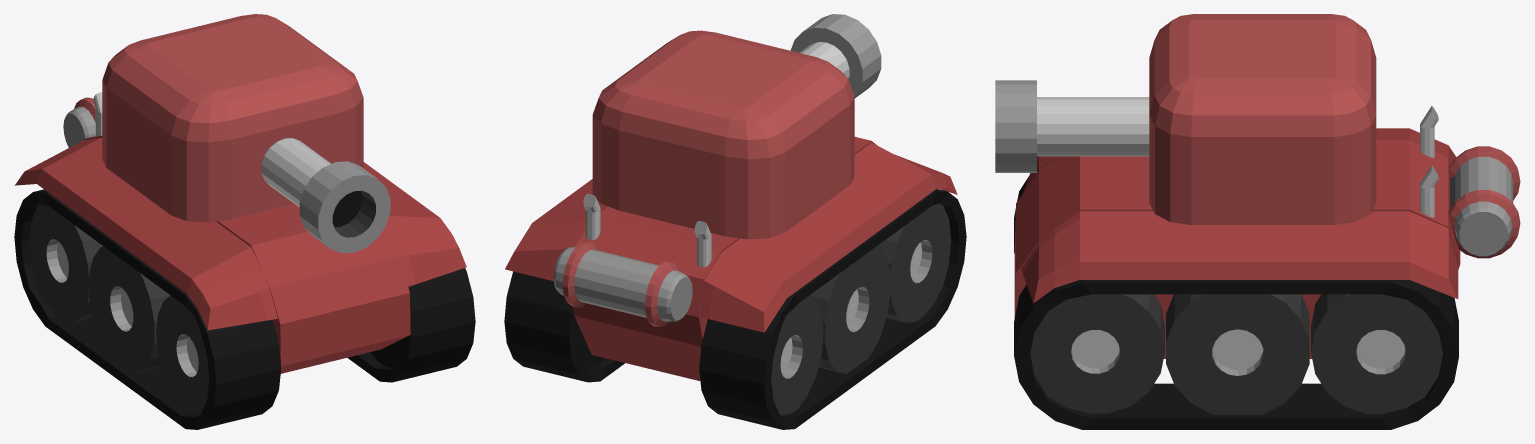
The model's file is CartoonTank.obj.
3 renders of one model, left to right at view 1: azimuth 30°, elevation 25°; view 2: azimuth 150°, elevation 25°; view 3: azimuth 270°, elevation 25°, orthographic. The views are drawn at different scales.
Visible parts, largest first — view 1: Turret_Cube.002, Tracks_Cylinder.005, TracksDef_Cube.001, Base_Cube, Barrel_Cylinder.008, Wheel_RightMiddle_Cylinder.003, Wheel_RightBack_Cylinder.002, Wheel_RightFront_Cylinder.000, Gas_Cylinder.007, Wheel_LeftFront_Cylinder.004; view 2: Turret_Cube.002, Tracks_Cylinder.005, TracksDef_Cube.001, Base_Cube, Gas_Cylinder.007, Wheel_RightMiddle_Cylinder.003, Wheel_RightFront_Cylinder.000, Wheel_RightBack_Cylinder.002, Barrel_Cylinder.008, Cube_Cube.003, Wheel_LeftBack_Cylinder.009; view 3: Turret_Cube.002, TracksDef_Cube.001, Tracks_Cylinder.005, Wheel_LeftMiddle_Cylinder.001, Base_Cube, Wheel_LeftFront_Cylinder.004, Wheel_LeftBack_Cylinder.009, Barrel_Cylinder.008, Gas_Cylinder.007, Cube_Cube.003.
Part boxes in pixels (box(x1,y1,x2,y2)): Turret_Cube.002: box(102, 14, 363, 222); Tracks_Cylinder.005: box(14, 189, 475, 429); TracksDef_Cube.001: box(15, 137, 466, 330); Base_Cube: box(84, 135, 410, 373); Barrel_Cylinder.008: box(261, 138, 390, 253); Wheel_RightMiddle_Cylinder.003: box(89, 246, 170, 373); Wheel_RightBack_Cylinder.002: box(29, 204, 103, 322); Wheel_RightFront_Cylinder.000: box(156, 295, 209, 415); Gas_Cylinder.007: box(63, 97, 95, 147); Wheel_LeftFront_Cylinder.004: box(370, 339, 402, 367); Turret_Cube.002: box(592, 30, 854, 239); Tracks_Cylinder.005: box(504, 189, 966, 429); TracksDef_Cube.001: box(505, 142, 957, 332); Base_Cube: box(572, 137, 876, 380); Gas_Cylinder.007: box(553, 242, 692, 326); Wheel_RightMiddle_Cylinder.003: box(809, 247, 890, 373); Wheel_RightFront_Cylinder.000: box(876, 203, 951, 322); Wheel_RightBack_Cylinder.002: box(771, 296, 823, 415); Barrel_Cylinder.008: box(790, 14, 881, 98); Cube_Cube.003: box(583, 193, 711, 267); Wheel_LeftBack_Cylinder.009: box(576, 323, 605, 367); Turret_Cube.002: box(1149, 14, 1376, 224); TracksDef_Cube.001: box(1021, 128, 1458, 303); Tracks_Cylinder.005: box(1014, 176, 1458, 429); Wheel_LeftMiddle_Cylinder.001: box(1166, 294, 1309, 414); Base_Cube: box(1014, 140, 1460, 358); Wheel_LeftFront_Cylinder.004: box(1030, 294, 1164, 413); Wheel_LeftBack_Cylinder.009: box(1311, 294, 1442, 414); Barrel_Cylinder.008: box(995, 80, 1149, 172); Gas_Cylinder.007: box(1448, 146, 1520, 258); Cube_Cube.003: box(1420, 106, 1438, 217).
Bounding box in the file's own units: 2.01 × 2.08 × 3.19.
1 material, 1 textured.
